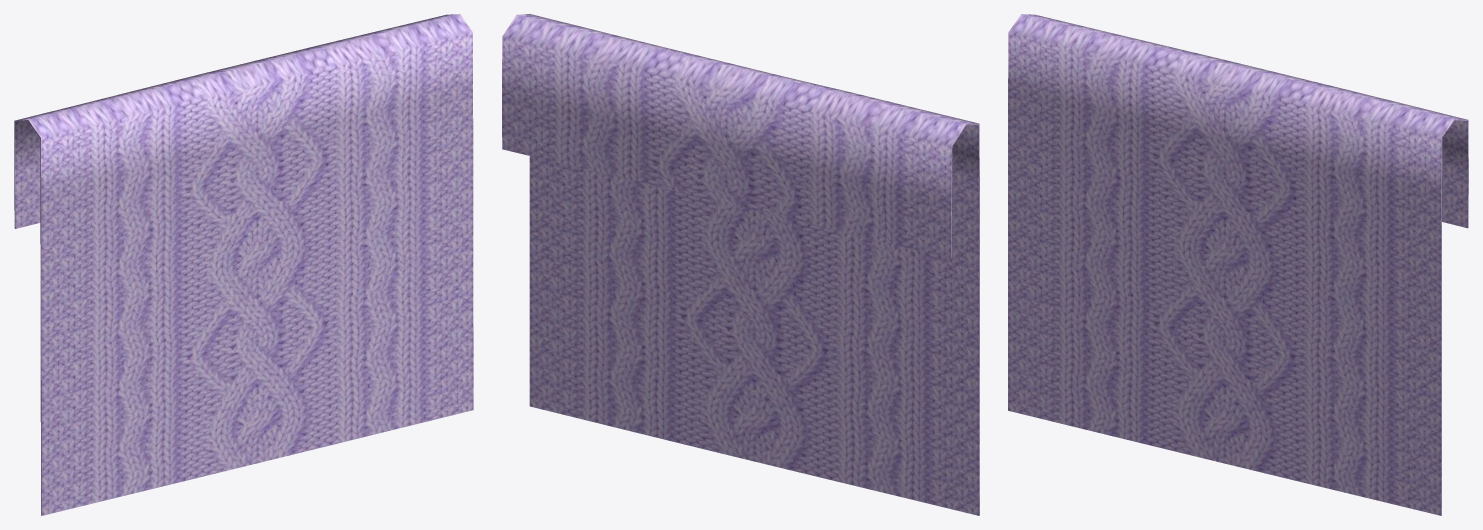
Rendered from Towel.FBX.
3 views of the same model, side by side, from view 1: azimuth 30°, elevation 25°; view 2: azimuth 150°, elevation 25°; view 3: azimuth 330°, elevation 25° (orthographic). The views are drawn at different scales.
Parts seen in each view (by area): view 1: Towel; view 2: Towel; view 3: Towel.
Part boxes in pixels (bbox=[...]): Towel: bbox=[14, 14, 473, 515]; Towel: bbox=[502, 14, 979, 515]; Towel: bbox=[1008, 14, 1468, 515].
Size of the model in its own units: 25.61 by 21.89 by 3.01.
